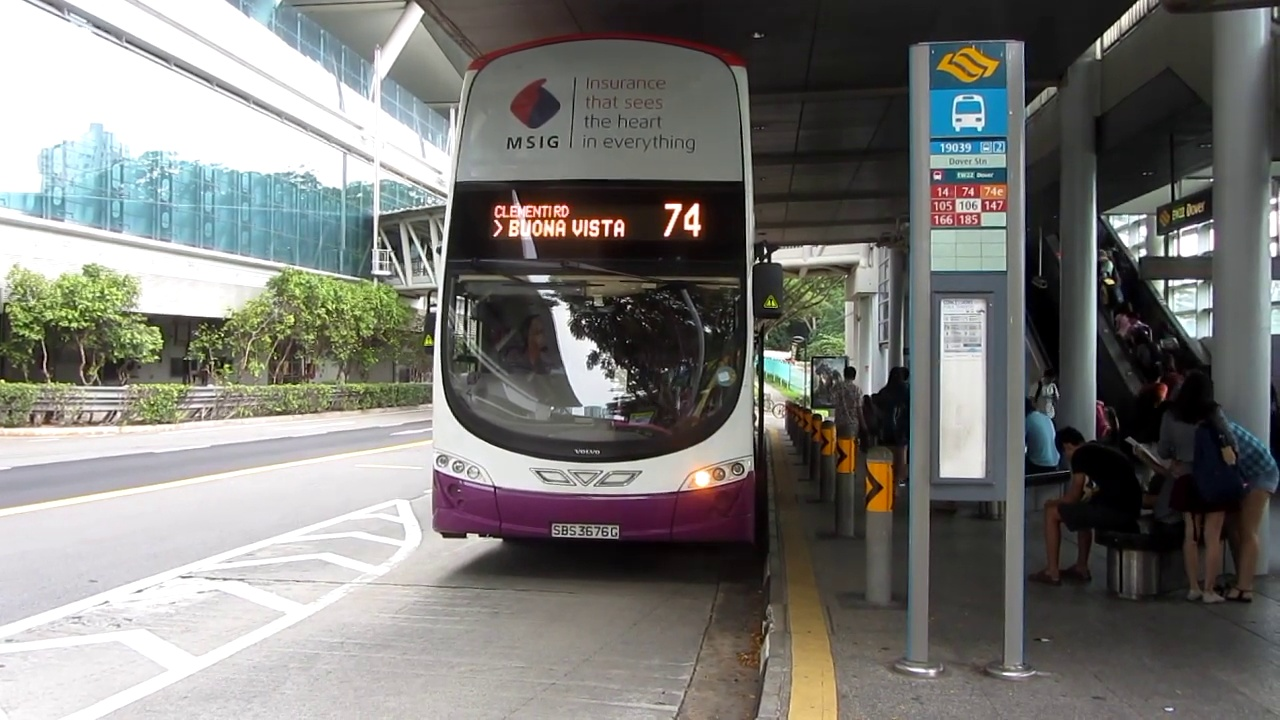bus panel: (487, 199, 707, 242)
